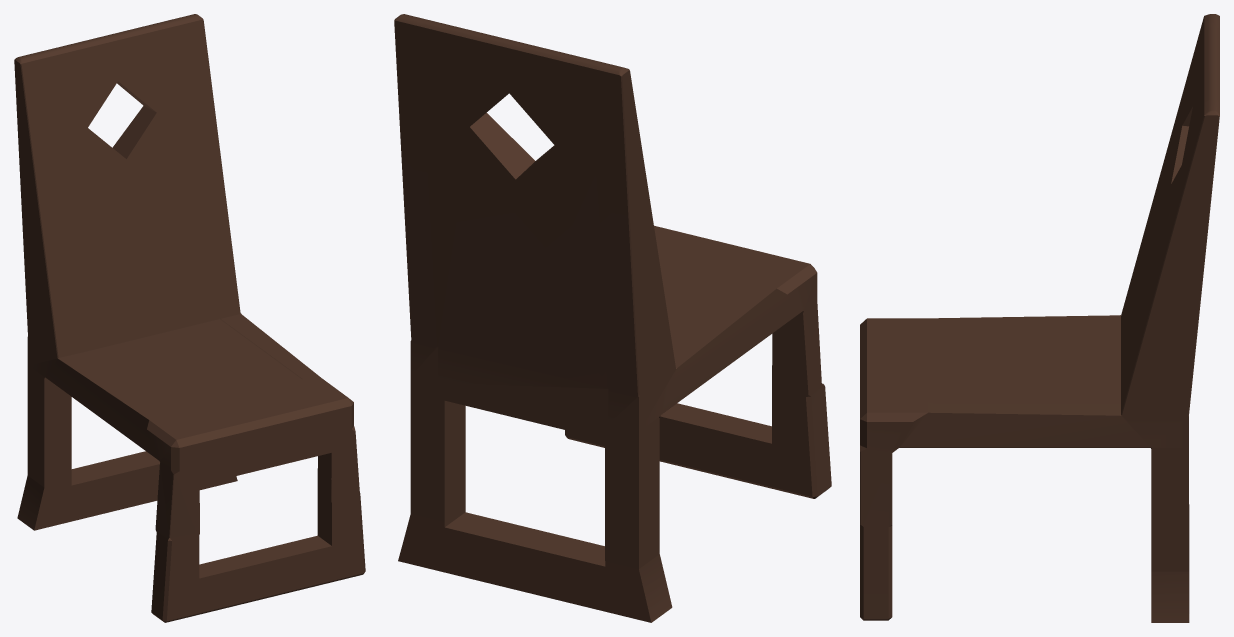
The model's file is chair.fbx.
3 views of the same model, side by side, from view 1: azimuth 30°, elevation 25°; view 2: azimuth 150°, elevation 25°; view 3: azimuth 270°, elevation 25° (orthographic). The views are drawn at different scales.
Parts seen in each view (by area): view 1: pCube7; view 2: pCube7; view 3: pCube7.
Boxes of the visible parts, x1,y1,x2,y2 form: pCube7: (14,14,365,622); pCube7: (394,14,831,622); pCube7: (860,14,1219,622).
Size of the model in its own units: 28.09 by 59.3 by 38.31.
